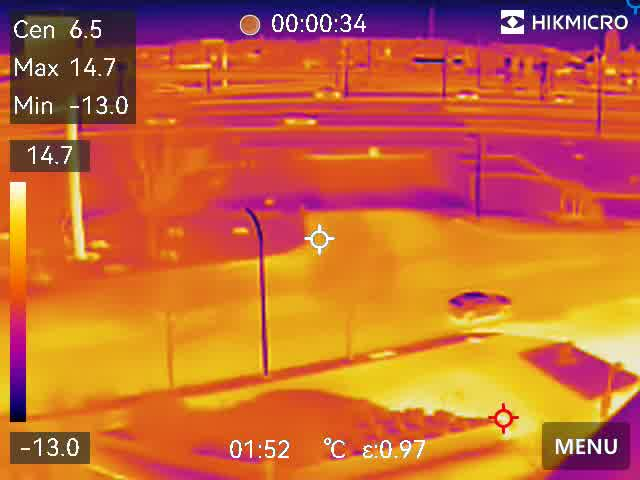smallCar: (281, 110, 318, 129), (140, 111, 182, 126)
vehicle: (446, 291, 514, 323), (453, 89, 484, 105), (311, 87, 342, 99), (548, 92, 573, 105)
